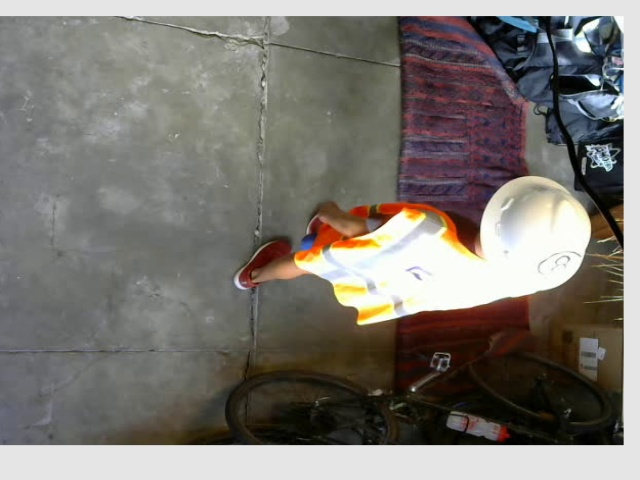eight: (537, 250, 580, 278)
